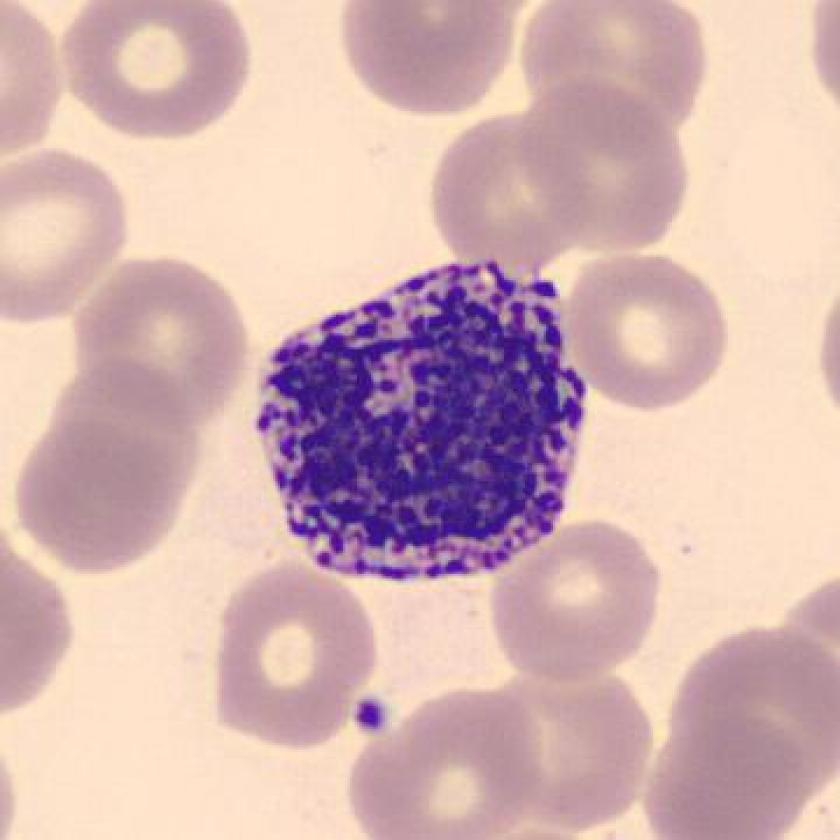basophil: (251, 251, 601, 577)
